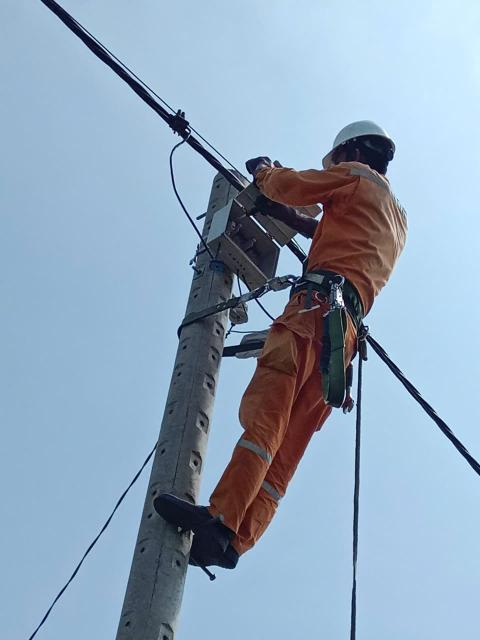gloves: (249, 194, 342, 244), (238, 154, 284, 190)
harness: (290, 256, 398, 354)
helmet: (320, 112, 413, 174)
shoes: (153, 488, 236, 557), (199, 552, 245, 571)
